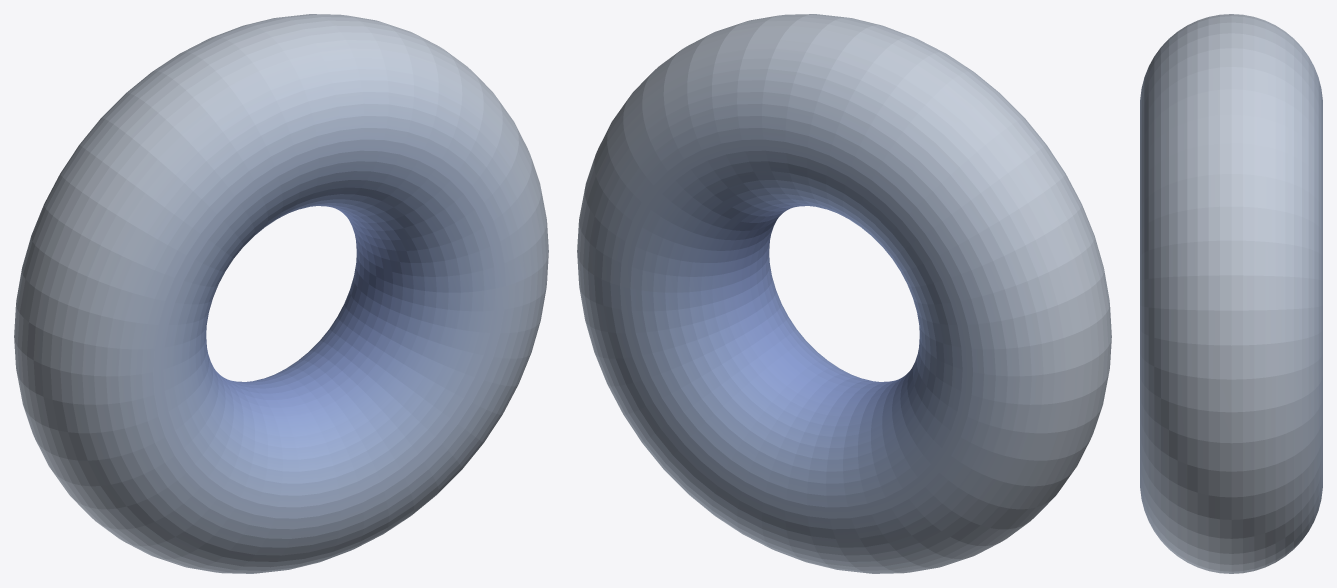
The picture shows the model from 3 angles, left to right: view 1: azimuth 30°, elevation 25°; view 2: azimuth 150°, elevation 25°; view 3: azimuth 270°, elevation 25°; orthographic projection. The views are drawn at different scales.
Visible parts, largest first — view 1: world; view 2: world; view 3: world.
Part boxes in pixels (x1,y1,x2,y2): world: [14, 14, 548, 573]; world: [577, 14, 1111, 573]; world: [1140, 14, 1322, 573].
Size of the model in its own units: 20.8 by 20.76 by 6.79.
